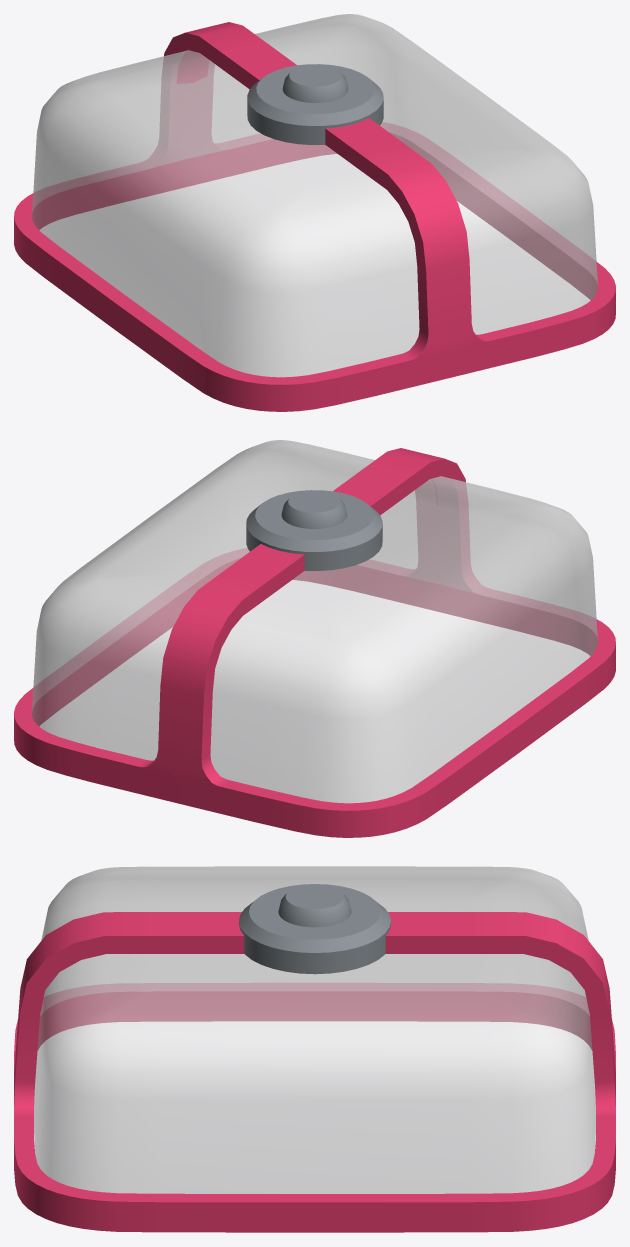
File: Hop_l_1.fbx
The picture shows the model from 3 angles, top to bottom: view 1: azimuth 30°, elevation 25°; view 2: azimuth 150°, elevation 25°; view 3: azimuth 270°, elevation 25°; orthographic projection. The views are drawn at different scales.
Parts seen in each view (by area): view 1: Cube.131, Cube.132, Cube.133, Cylinder.048; view 2: Cube.131, Cube.132, Cube.133, Cylinder.048; view 3: Cube.131, Cube.132, Cube.133, Cylinder.048.
Boxes of the visible parts, x1,y1,x2,y2 form: Cube.131: [32, 14, 597, 377]; Cube.132: [14, 122, 615, 411]; Cube.133: [140, 22, 491, 360]; Cylinder.048: [247, 64, 383, 144]; Cube.131: [32, 440, 597, 803]; Cube.132: [14, 548, 615, 837]; Cube.133: [138, 448, 489, 786]; Cylinder.048: [246, 490, 382, 570]; Cube.131: [34, 866, 595, 1193]; Cube.132: [14, 983, 615, 1232]; Cube.133: [14, 912, 615, 1115]; Cylinder.048: [239, 884, 390, 974].
Size of the model in its own units: 156 by 75 by 181.
